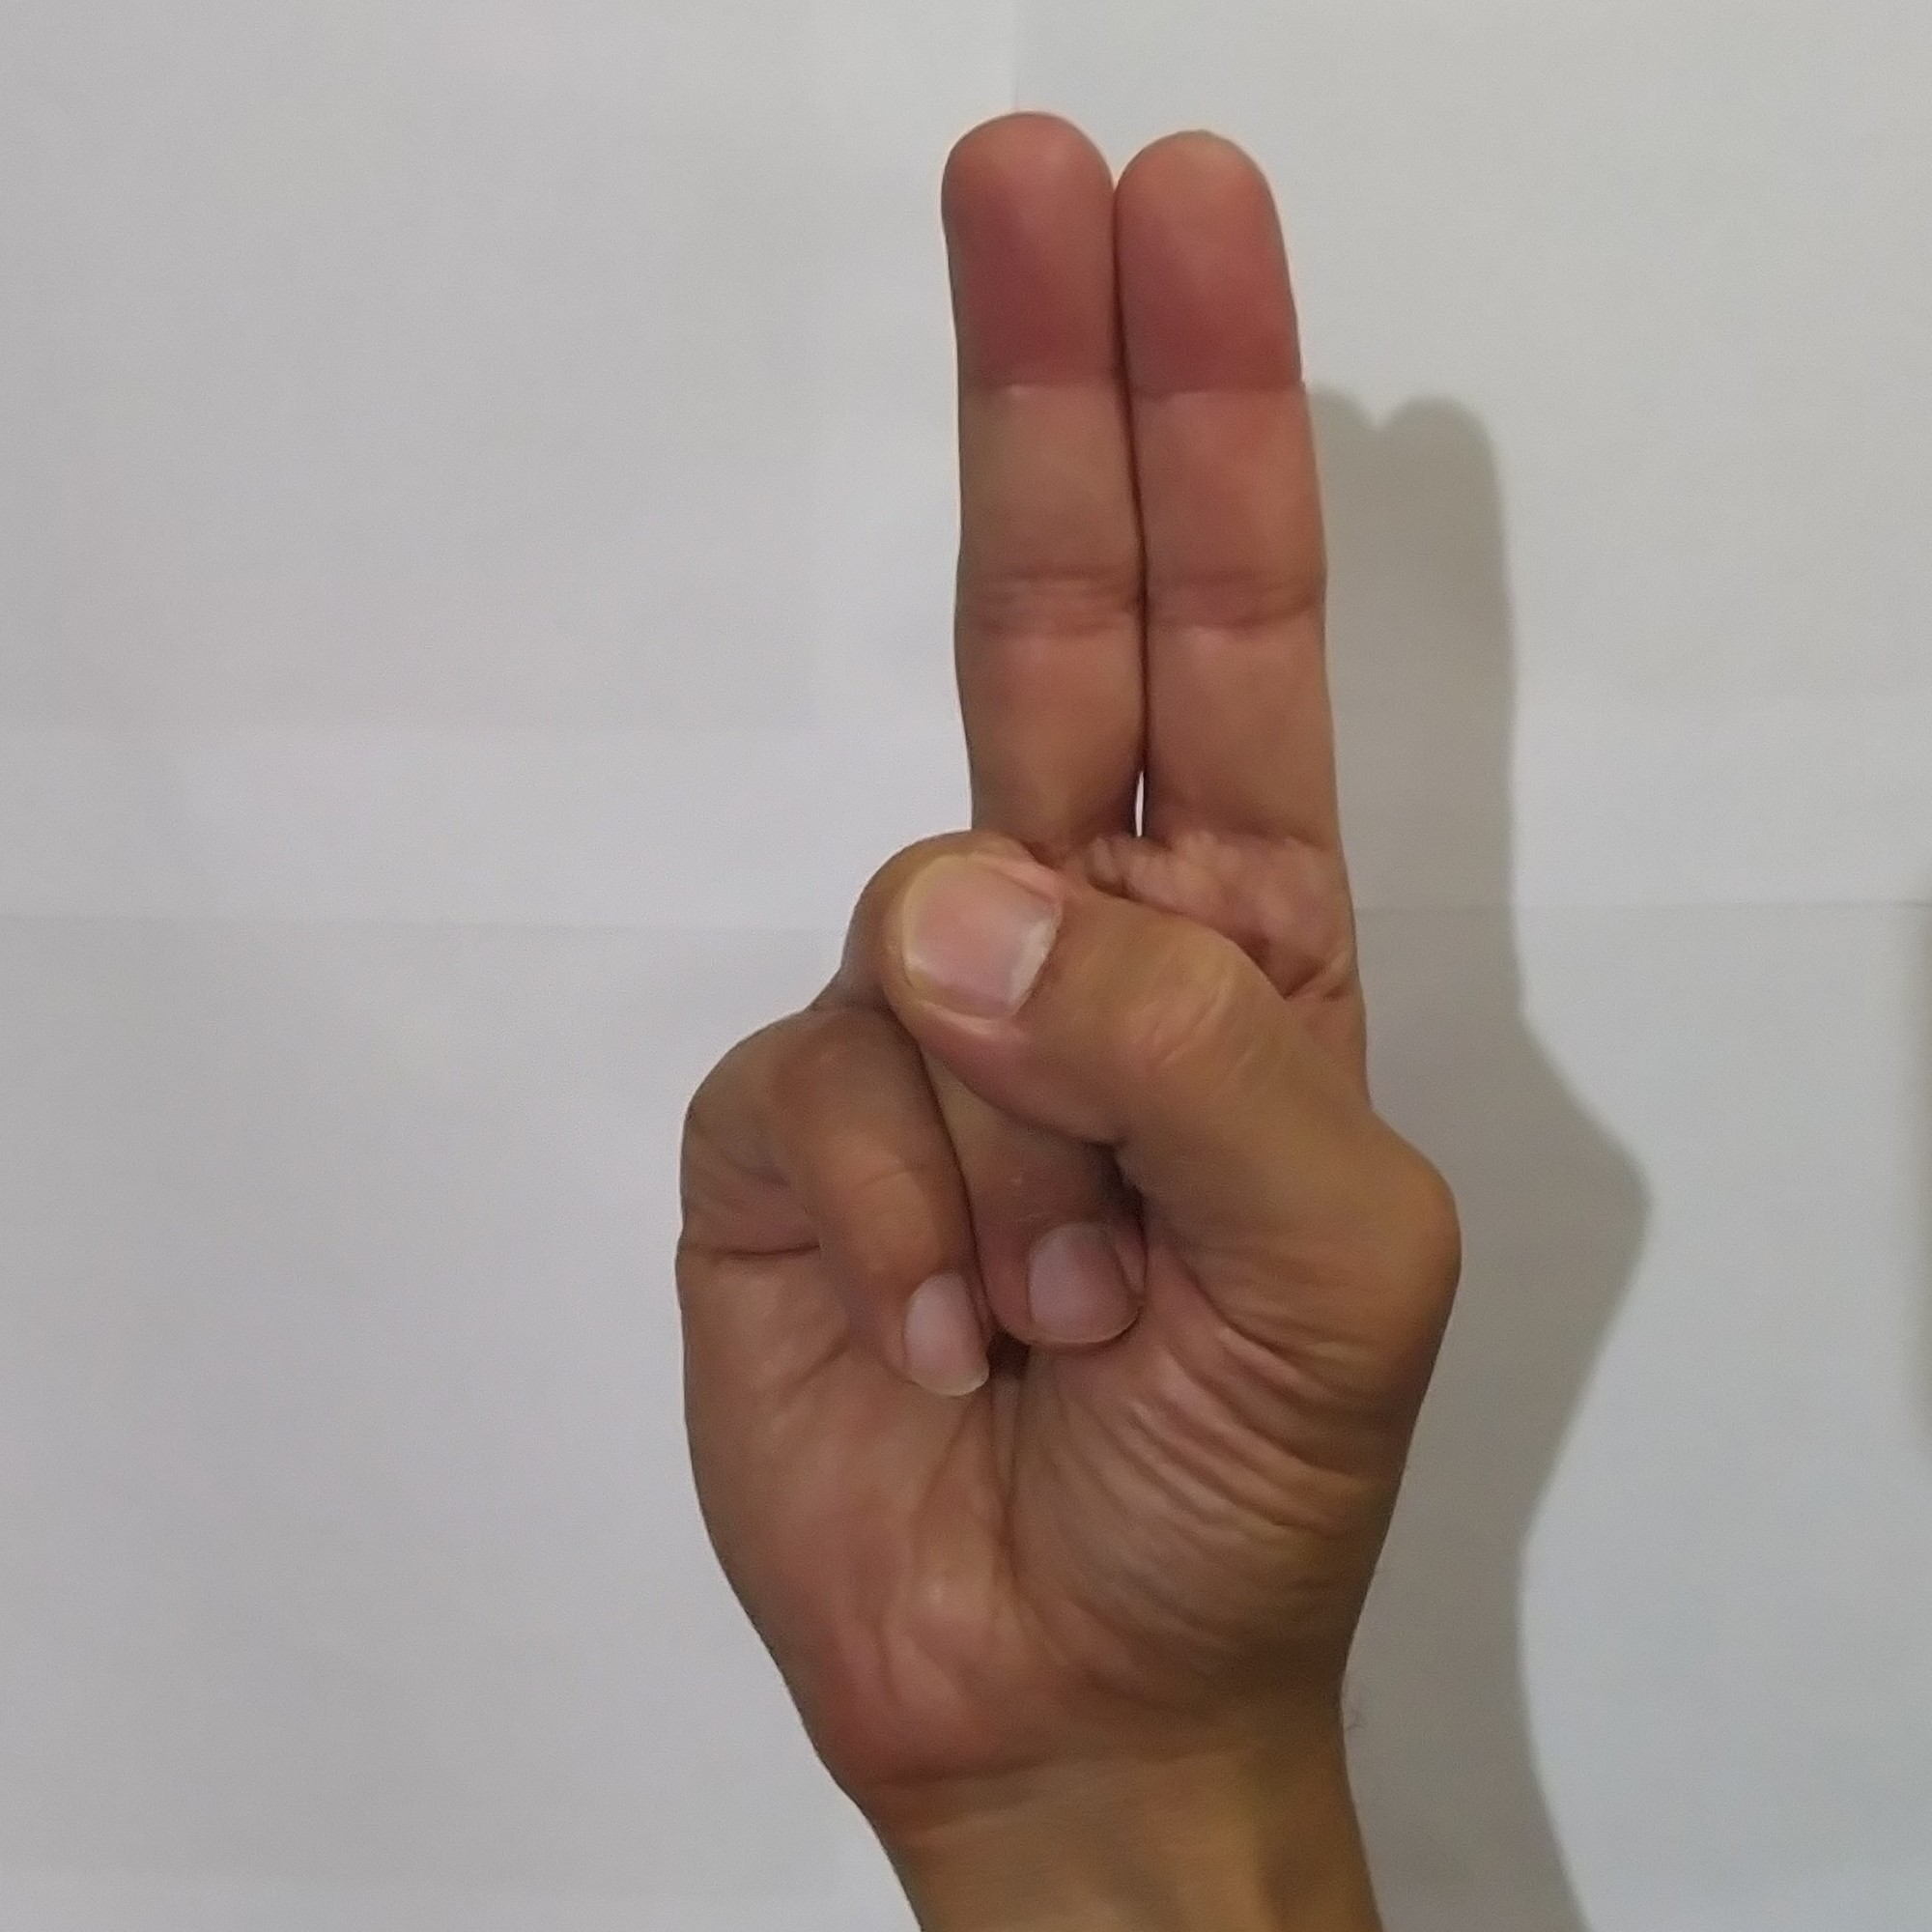U: (632, 78, 1499, 1776)
